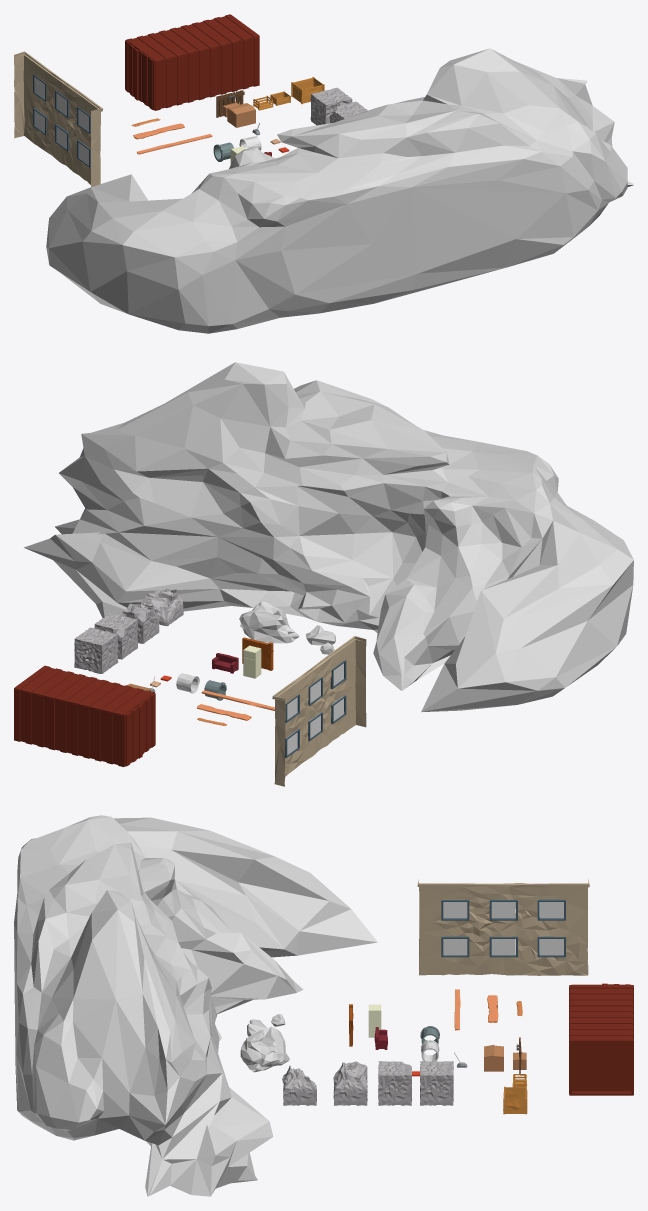
Rendered from environment.fbx.
3 renders of one model, top to bottom at view 1: azimuth 30°, elevation 25°; view 2: azimuth 150°, elevation 25°; view 3: azimuth 270°, elevation 25°, orthographic. The views are drawn at different scales.
Parts seen in each view (by area): view 1: GiantRock, Container, BuildingWall, TrashCube1, Windows, WindowFrames, BigWoodenBoxClose, BigCardboardBox; view 2: GiantRock, Container, BuildingWall, TrashCube1, BigRock, TrashCube2, Windows, TrashCube4, WindowFrames, TrashCube3; view 3: GiantRock, BuildingWall, Container, Windows, BigRock, TrashCube1, TrashCube2, WindowFrames, TrashCube3, TrashCube4, BigWoodenBoxClose.
Part boxes in pixels (box(x1,y1,x2,y2)): GiantRock: box(46, 48, 633, 333); Container: box(125, 14, 259, 110); BuildingWall: box(14, 51, 102, 186); TrashCube1: box(310, 87, 352, 125); Windows: box(35, 77, 88, 164); WindowFrames: box(33, 74, 90, 167); BigWoodenBoxClose: box(291, 76, 324, 104); BigCardboardBox: box(227, 103, 255, 127); GiantRock: box(24, 362, 633, 712); Container: box(14, 665, 155, 766); BuildingWall: box(272, 636, 366, 786); TrashCube1: box(74, 627, 118, 673); BigRock: box(239, 601, 299, 643); TrashCube2: box(94, 613, 138, 659); Windows: box(286, 663, 343, 754); TrashCube4: box(141, 588, 183, 626); WindowFrames: box(285, 660, 346, 758); TrashCube3: box(121, 603, 159, 643); GiantRock: box(14, 815, 377, 1196); BuildingWall: box(417, 879, 589, 975); Container: box(569, 983, 633, 1095); Windows: box(443, 902, 563, 955); BigRock: box(240, 1026, 289, 1072); TrashCube1: box(420, 1061, 453, 1105); TrashCube2: box(378, 1061, 412, 1105); WindowFrames: box(441, 899, 565, 957); TrashCube3: box(333, 1061, 367, 1105); TrashCube4: box(282, 1065, 316, 1105); BigWoodenBoxClose: box(503, 1086, 527, 1114).
Size of the model in its own units: 4044 by 1560 by 3661.
